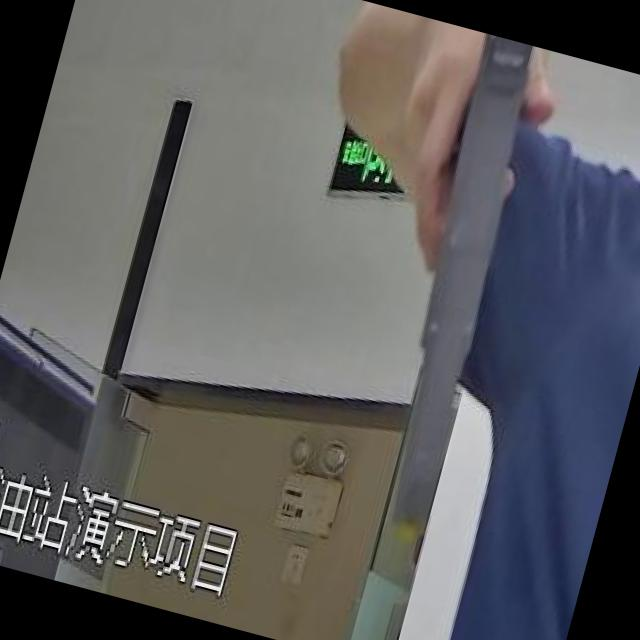Guns: (284, 17, 633, 602)
